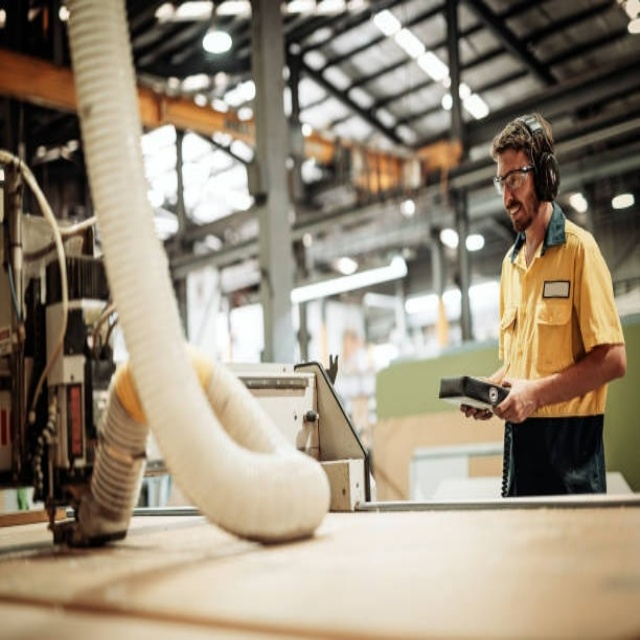Gafas: (494, 166, 536, 194)
Sin_guantes: (482, 375, 539, 424)
Sin_mascara: (504, 199, 526, 226)
